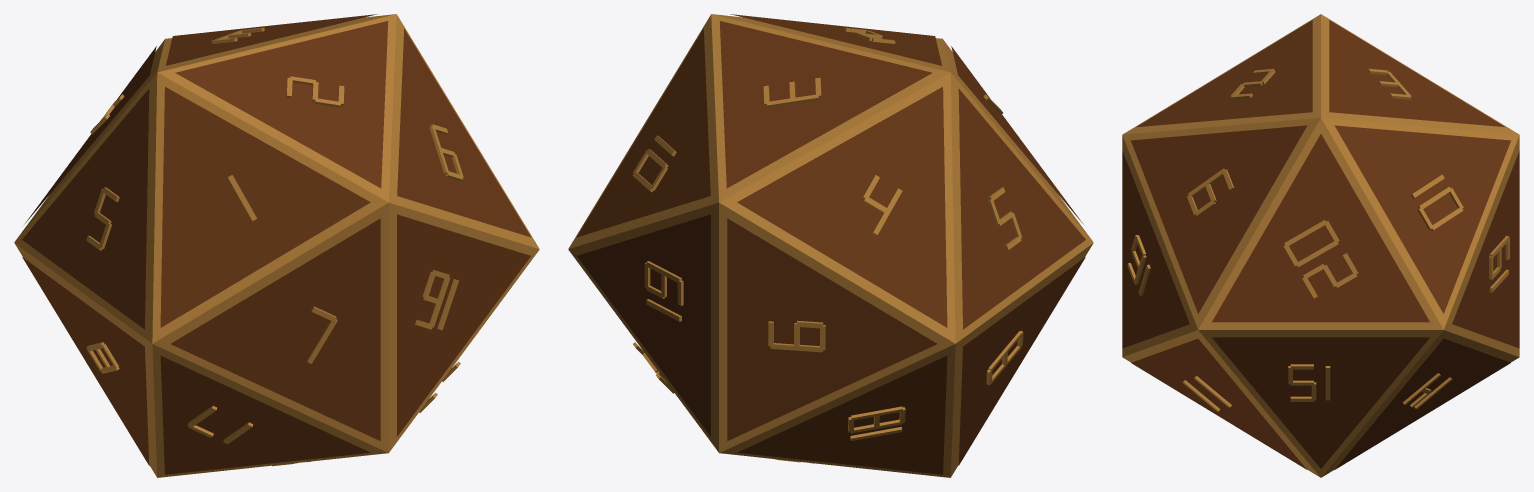
Rendered from dice-d20.glb.
3 renders of one model, left to right at view 1: azimuth 30°, elevation 25°; view 2: azimuth 150°, elevation 25°; view 3: azimuth 270°, elevation 25°, orthographic. The views are drawn at different scales.
Parts seen in each view (by area): view 1: Walnut brass D20 numbered 1-20; view 2: Walnut brass D20 numbered 1-20; view 3: Walnut brass D20 numbered 1-20.
Part boxes in pixels (x1,y1,x2,y2): Walnut brass D20 numbered 1-20: (14, 14, 539, 477); Walnut brass D20 numbered 1-20: (568, 14, 1093, 477); Walnut brass D20 numbered 1-20: (1122, 14, 1519, 477).
Size of the model in its own units: 1.7 by 1.7 by 1.7.
